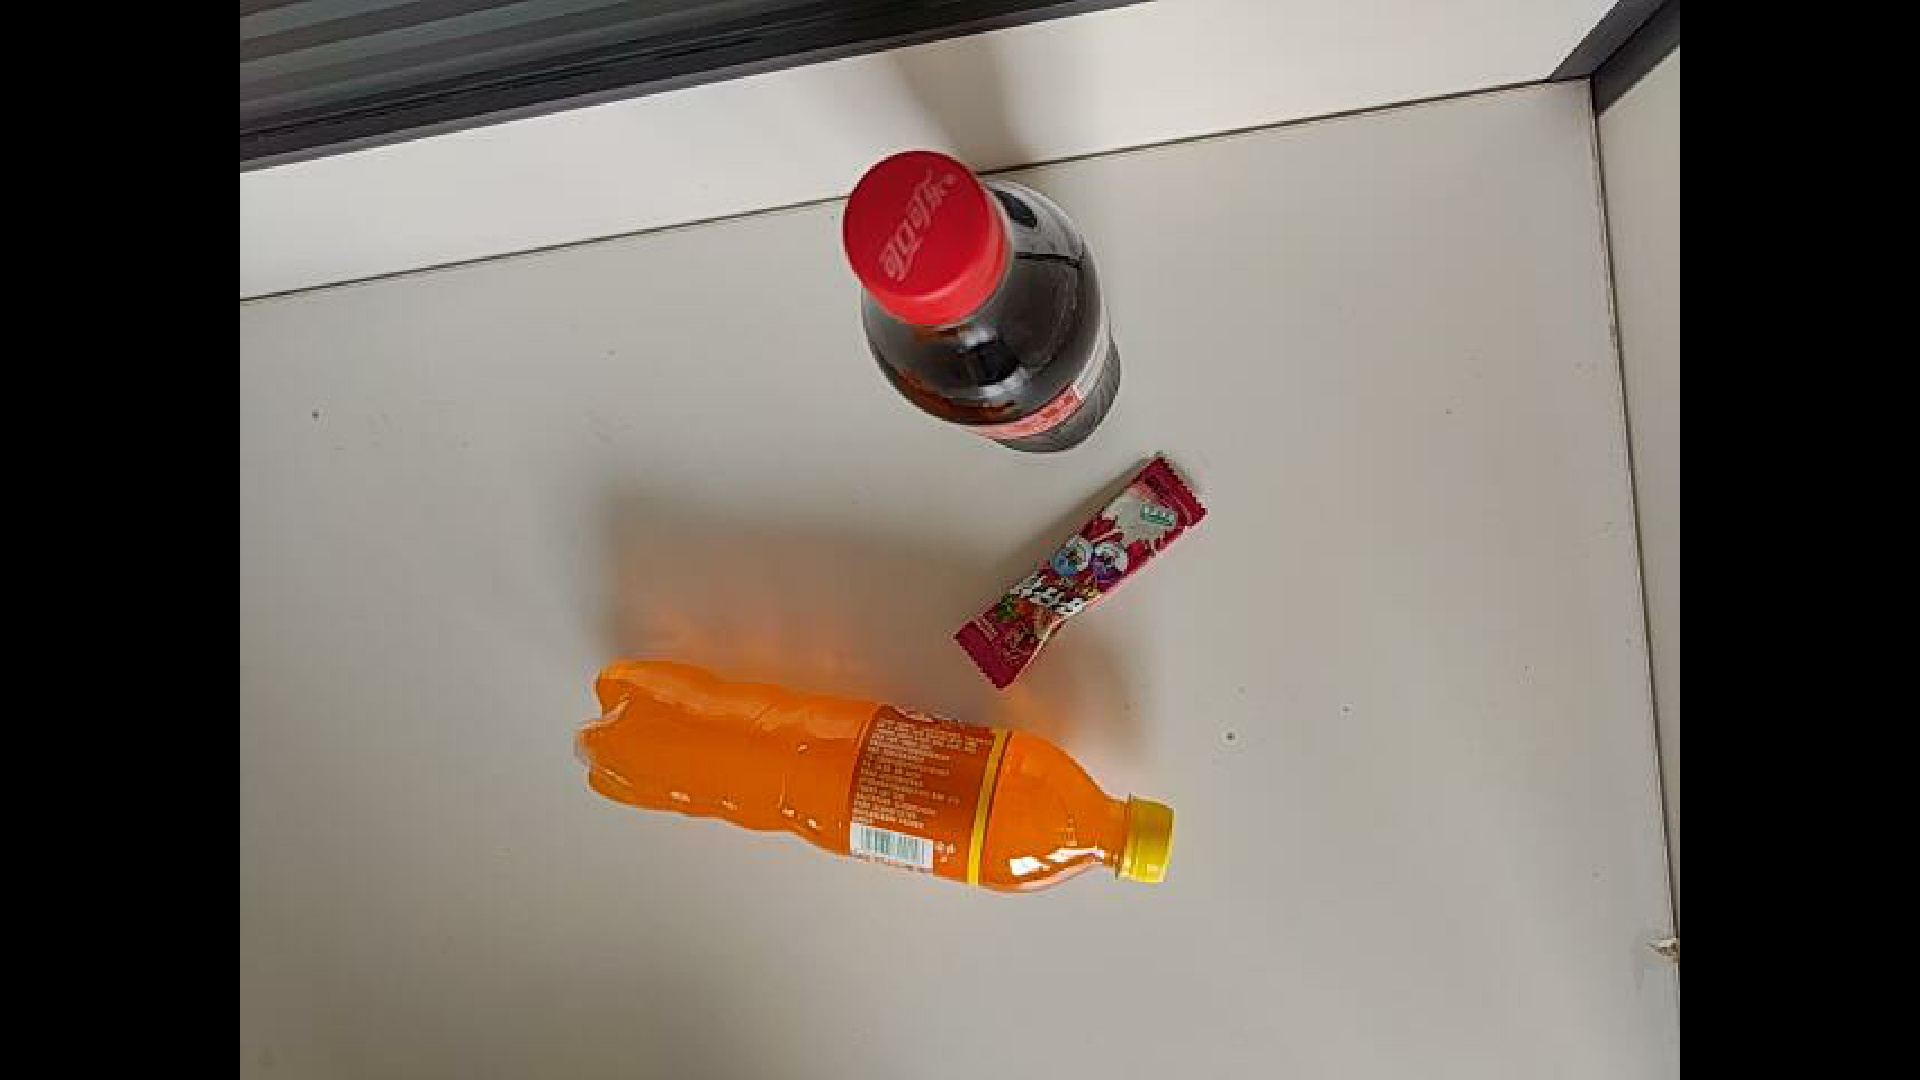cola: (841, 149, 1122, 456)
fenta: (534, 644, 1191, 873)
sugar: (940, 526, 1263, 698)
